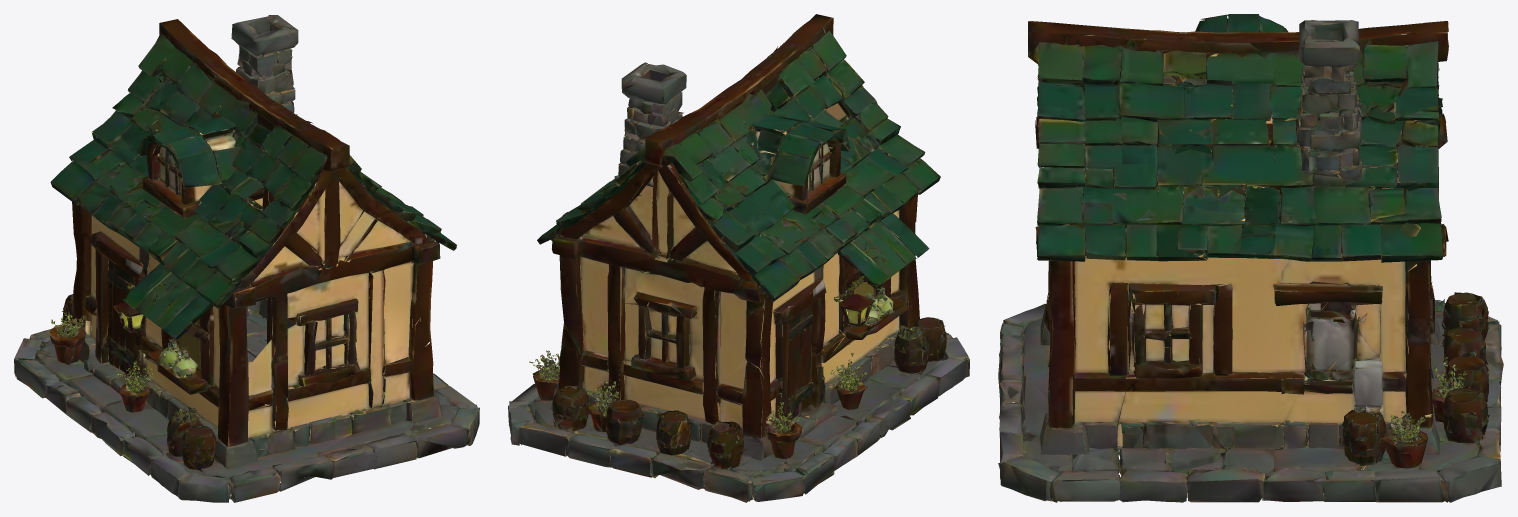
The model's file is mira_apothecary.glb.
The picture shows the model from 3 angles, left to right: view 1: azimuth 30°, elevation 25°; view 2: azimuth 150°, elevation 25°; view 3: azimuth 270°, elevation 25°; orthographic projection. The views are drawn at different scales.
Parts seen in each view (by area): view 1: Building; view 2: Building; view 3: Building.
Part boxes in pixels (<box>): Building: <box>14,15,479,502</box>; Building: <box>508,14,969,502</box>; Building: <box>998,14,1503,502</box>.
Size of the model in its own units: 3.21 by 3.47 by 3.8.
1 material, 1 textured.
